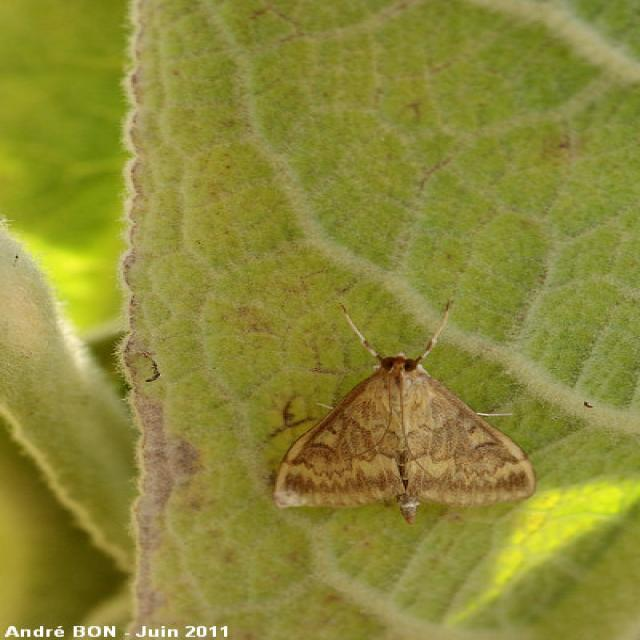cornborer-Adult-: (240, 285, 564, 527)
